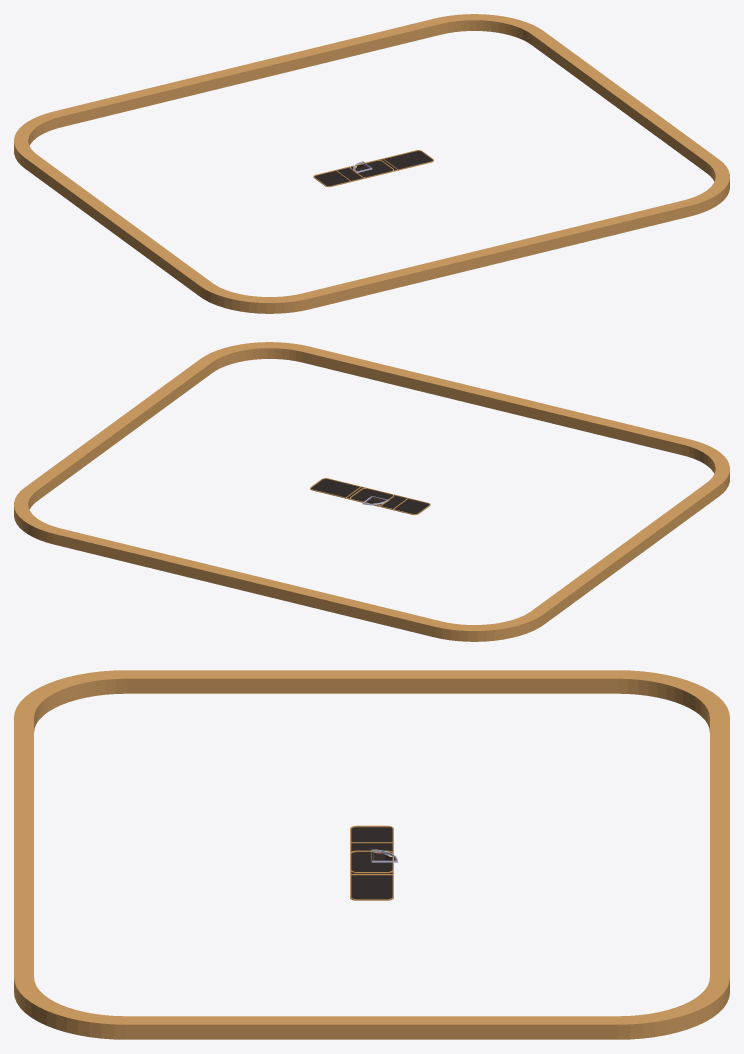
Rendered from ArkadRacer.fbx.
3 views of the same model, one above another, from view 1: azimuth 30°, elevation 25°; view 2: azimuth 150°, elevation 25°; view 3: azimuth 270°, elevation 25° (orthographic). The views are drawn at different scales.
Parts seen in each view (by area): view 1: GameBorder, Time/Placement; view 2: GameBorder, Time/Placement; view 3: GameBorder, Time/Placement.
Boxes of the visible parts, left/top/right/bottom form: GameBorder: left=14, top=14, right=729, bottom=313; Time/Placement: left=313, top=150, right=433, bottom=187; GameBorder: left=14, top=342, right=729, bottom=641; Time/Placement: left=310, top=478, right=430, bottom=515; GameBorder: left=14, top=670, right=729, bottom=1039; Time/Placement: left=350, top=825, right=393, bottom=900.
Size of the model in its own units: 22171 by 439 by 18923.
